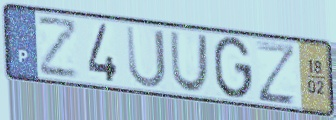4: (87, 22, 120, 84)
G: (212, 34, 254, 102)
U: (123, 23, 168, 90), (168, 30, 210, 95)
Z: (254, 38, 298, 108), (36, 16, 80, 81)
